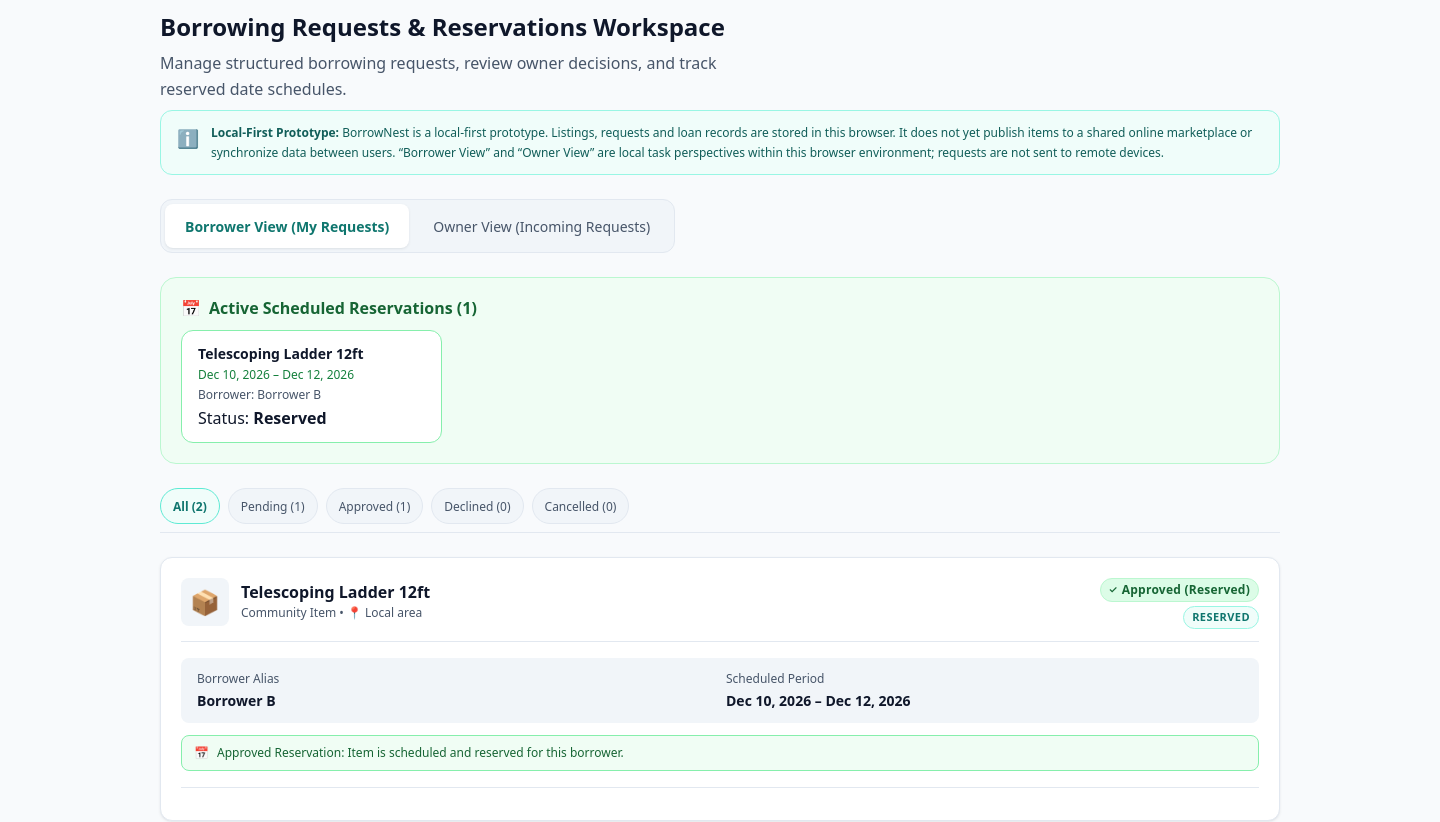
BorrowingPage UI and Interactions › filters requests reactively by status pills
This screenshot has width=1440, height=822.
Expected: the text "Borrower B" is shown, [197,690,276,710]
Note: Filter to Approved
Click the button "Approved (1)": (374, 506) [326,488,423,524]
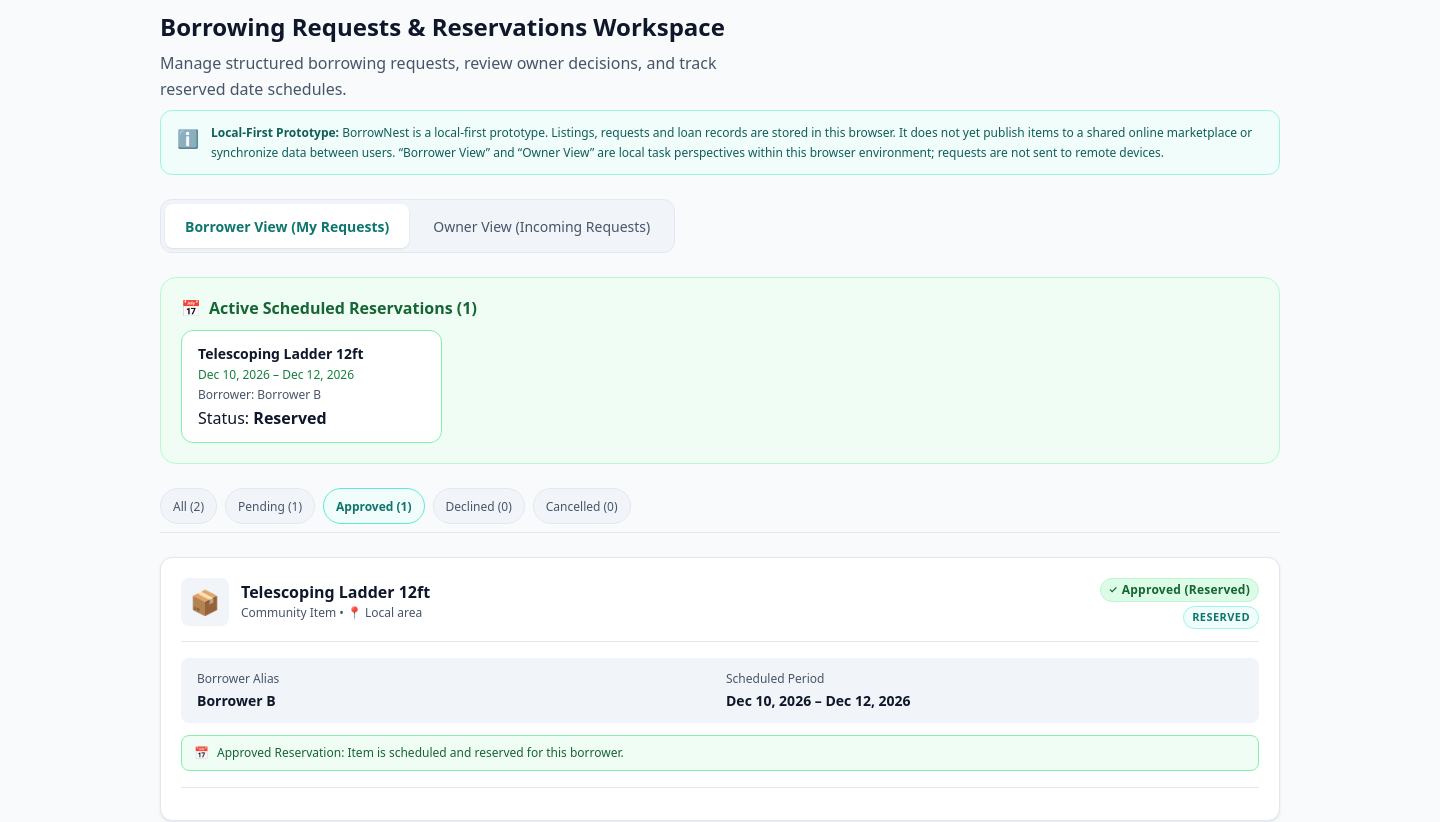
Expected: the text "Borrower B" is shown, [197,690,276,710]
Note: Filter to Declined (0 records)
Click the button "Declined (0)": (479, 506) [432,488,525,524]
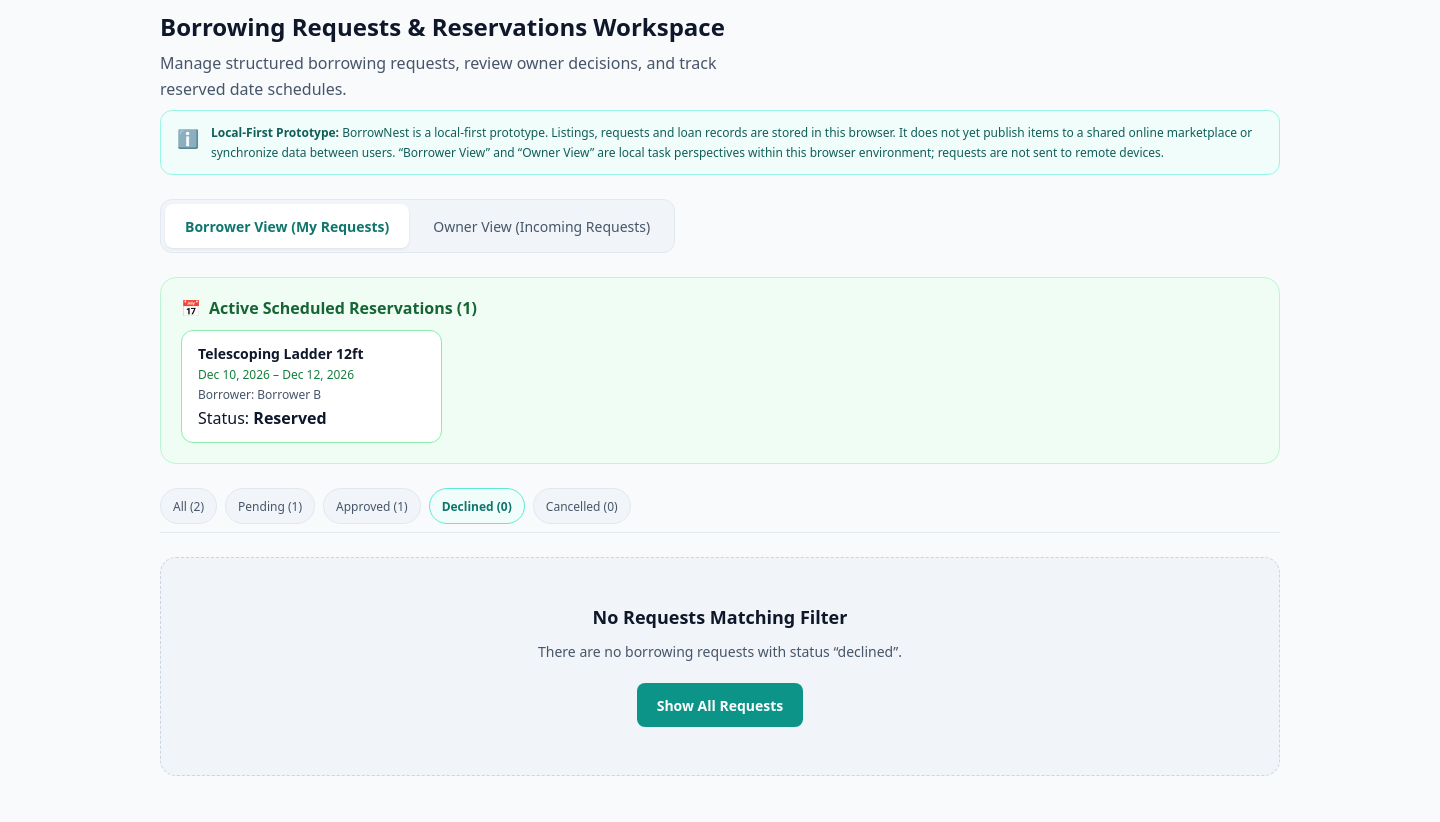
Expected: the heading "No Requests Matching Filter" is shown, [593,606,847,628]
